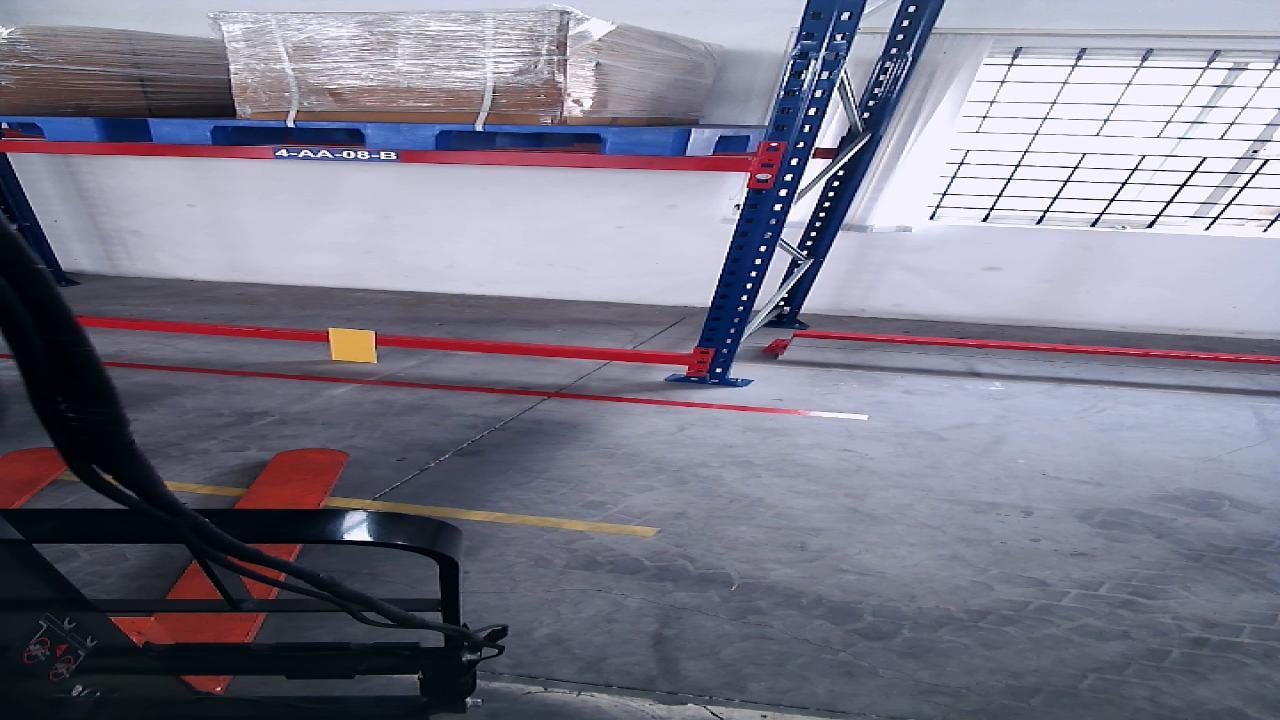h_rack: (77, 320, 686, 365), (0, 141, 752, 171)
orange_strip: (328, 328, 374, 362)
red_line: (101, 361, 866, 420)
small_pallet: (151, 118, 693, 156)
yellow_line: (320, 496, 664, 537)
